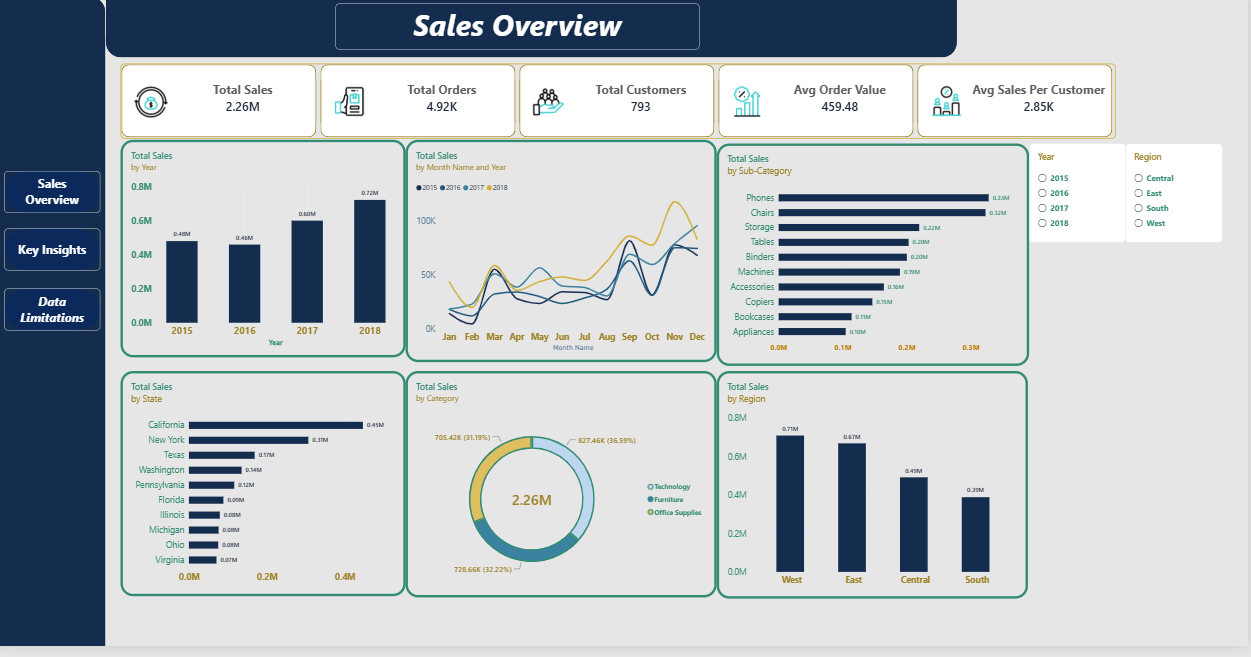

Layout of this report page (visuals, bound fields, positions):
{"tool":"powerbi","page":{"name":"Sales Over View","canvas":[1920,1500],"ordinal":0},"visuals":[{"type":"cardVisual","fields":{"Data":["_Measures.Avg Sales Per Customer"]},"box":[1212,280,278,282],"z":0},{"type":"cardVisual","fields":{"Data":["_Measures.Total Customers"]},"box":[612,280,280,280],"z":1000},{"type":"cardVisual","fields":{"Data":["_Measures.Avg Order Value"]},"box":[914,280,280,280],"z":2000},{"type":"cardVisual","fields":{"Data":["_Measures.Total Orders"]},"box":[306,278,280,280],"z":3000},{"type":"clusteredColumnChart","title":"Total Sales ","fields":{"Category":["Dim.Calendar.Year"],"Y":["_Measures.Total Sales"]},"box":[0,596,613.4,434.3],"z":4000},{"type":"lineChart","fields":{"Category":["Dim.Calendar.Month Name"],"Series":["Dim.Calendar.Year"],"Y":["_Measures.Total Sales"]},"box":[613.4,594.9,656.6,434.3],"z":5000},{"type":"donutChart","fields":{"Category":["Dim Product.Category"],"Y":["_Measures.Total Sales"]},"box":[1269.3,595.7,629.8,434.3],"z":6000},{"type":"clusteredBarChart","title":"Total Sales ","fields":{"Category":["Dim Product.Sub-Category"],"Y":["_Measures.Total Sales"]},"box":[0,1055.6,613.3,444.9],"z":7000},{"type":"clusteredColumnChart","fields":{"Category":["Dim Location.Region"],"Y":["_Measures.Total Sales"]},"box":[614,1056,656,444],"z":8000},{"type":"clusteredBarChart","fields":{"Category":["Dim Location.State"],"Y":["_Measures.Total Sales"]},"box":[1270,1056,630,444],"z":9000},{"type":"textbox","box":[570,44,642,124],"z":10000},{"type":"cardVisual","fields":{"Data":["_Measures.Total Sales"]},"box":[20.1,279,270,280],"z":11000}]}

Visuals, with their boxes on the page's 1920x1500 design canvas (x1, y1, x2, y2). These are canvas units, not pixel positions in the 1251x657 screenshot, which may show the page scaled, cropped or inside an application window:
cardVisual - _Measures.Avg Sales Per Customer: bbox=(1212, 280, 1490, 562)
cardVisual - _Measures.Total Customers: bbox=(612, 280, 892, 560)
cardVisual - _Measures.Avg Order Value: bbox=(914, 280, 1194, 560)
cardVisual - _Measures.Total Orders: bbox=(306, 278, 586, 558)
"Total Sales " clusteredColumnChart: bbox=(0, 596, 613, 1030)
lineChart - Dim.Calendar.Month Name x Dim.Calendar.Year: bbox=(613, 595, 1270, 1029)
donutChart - Dim Product.Category x _Measures.Total Sales: bbox=(1269, 596, 1899, 1030)
"Total Sales " clusteredBarChart: bbox=(0, 1056, 613, 1500)
clusteredColumnChart - Dim Location.Region x _Measures.Total Sales: bbox=(614, 1056, 1270, 1500)
clusteredBarChart - Dim Location.State x _Measures.Total Sales: bbox=(1270, 1056, 1900, 1500)
textbox: bbox=(570, 44, 1212, 168)
cardVisual - _Measures.Total Sales: bbox=(20, 279, 290, 559)
